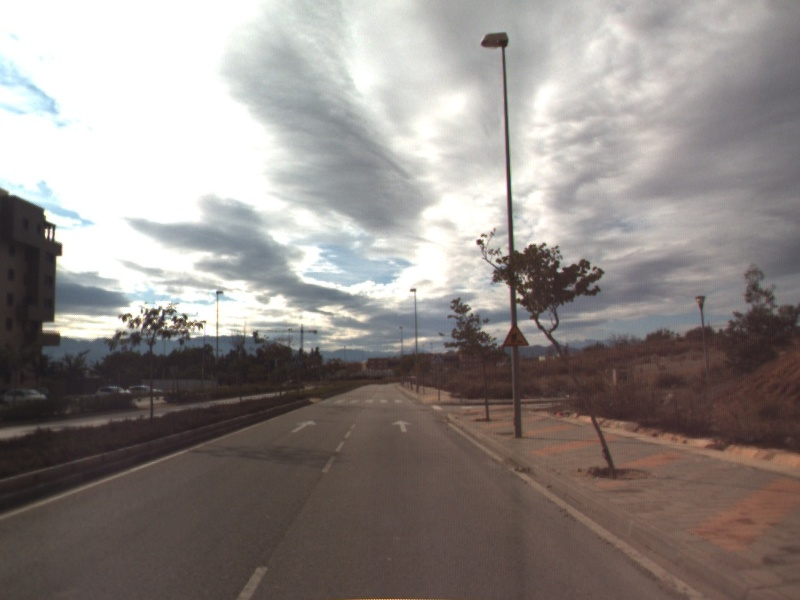STRAIGHT: (289, 418, 319, 434), (390, 418, 414, 434)
